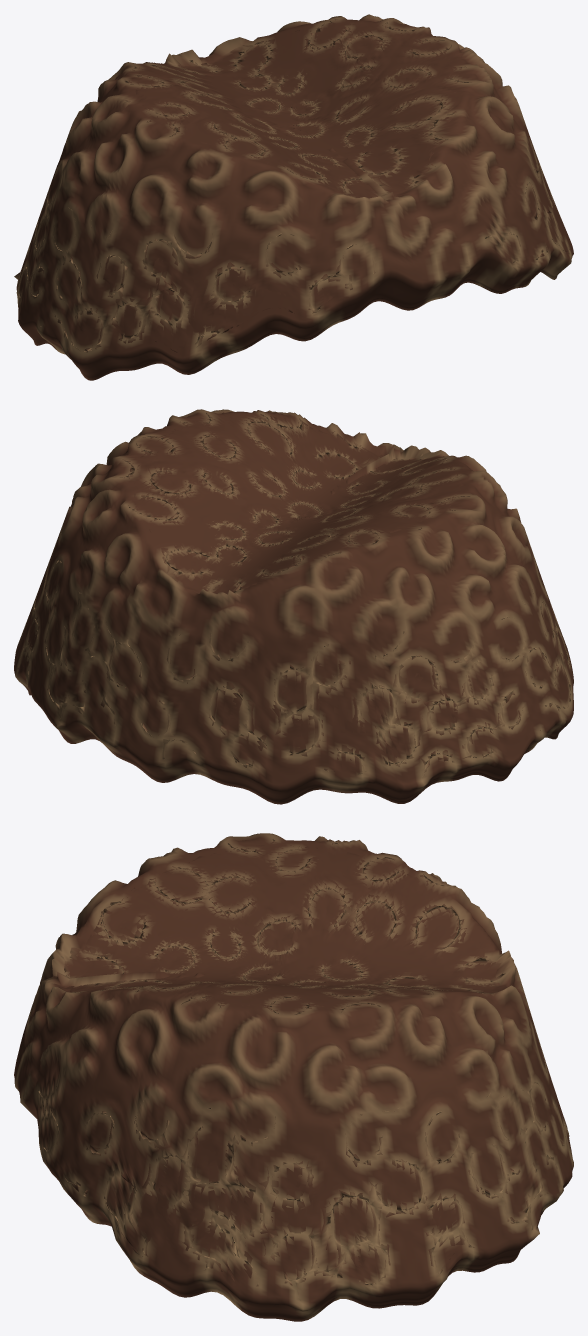
Rendered from Highlights-4c86a2db2b51251-hair.glb.
3 views of the same model, one above another, from view 1: azimuth 30°, elevation 25°; view 2: azimuth 150°, elevation 25°; view 3: azimuth 270°, elevation 25° (orthographic). The views are drawn at different scales.
Parts seen in each view (by area): view 1: 226 hair / Hair / sculpted afro251.001; view 2: 226 hair / Hair / sculpted afro251.001; view 3: 226 hair / Hair / sculpted afro251.001.
Boxes of the visible parts, <box> form: 226 hair / Hair / sculpted afro251.001: <box>14,14,573,380</box>; 226 hair / Hair / sculpted afro251.001: <box>14,409,573,804</box>; 226 hair / Hair / sculpted afro251.001: <box>14,833,573,1321</box>.
Size of the model in its own units: 0.9906 by 0.422 by 0.8117.
